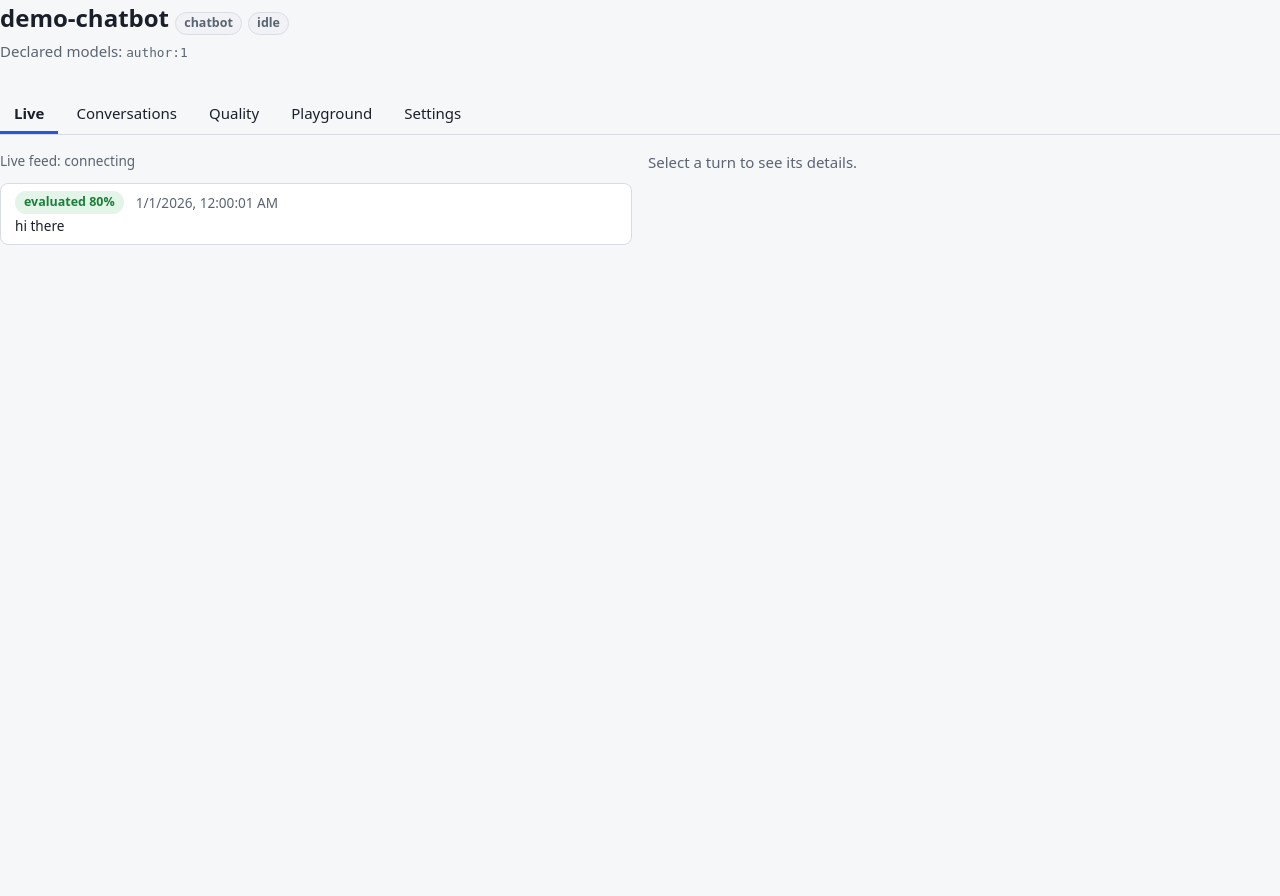
Test: settings tab › shows the hand-off agents picker once "Router" is selected, even before saving
Click the tab "Settings": (433,114) [390,94,475,134]
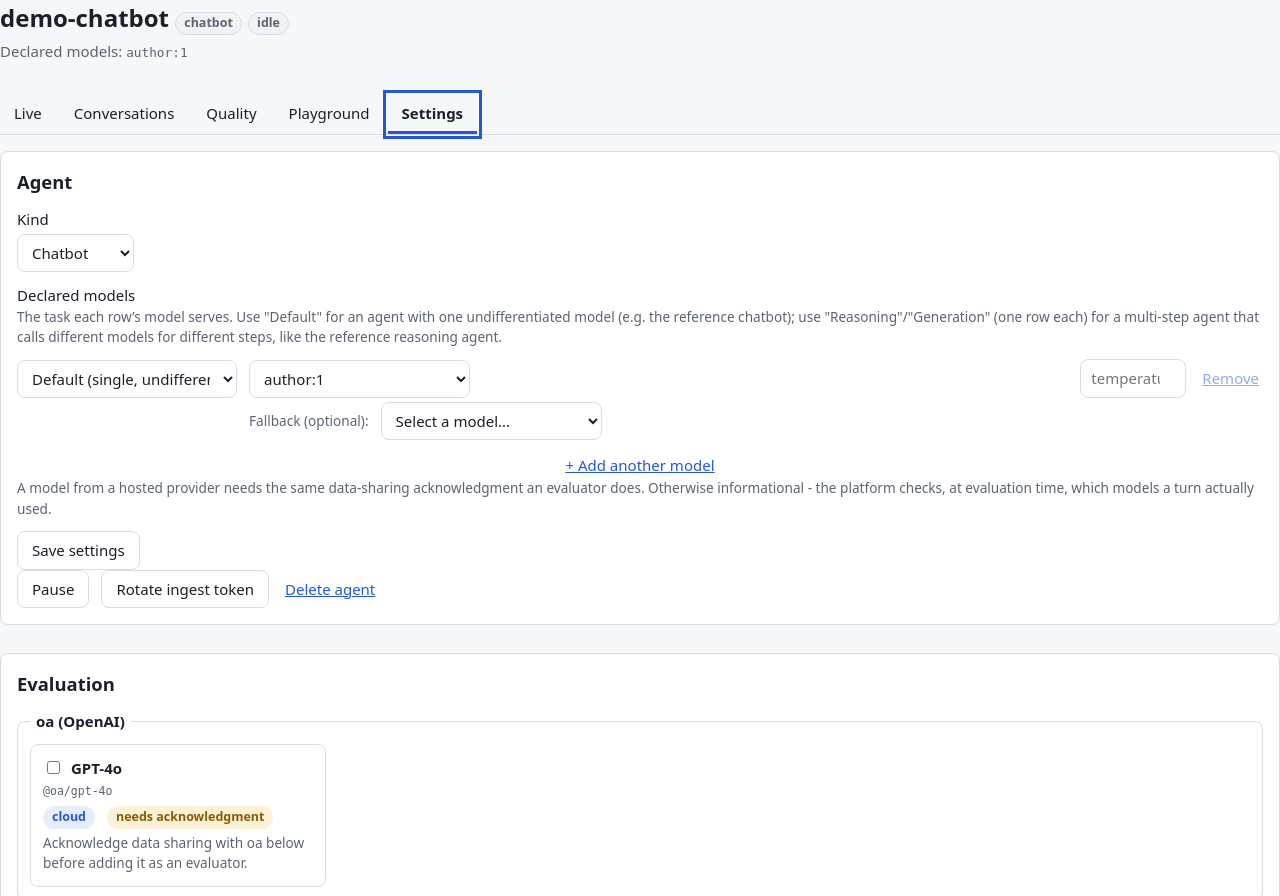
Expected: the element "Hand-off agents" is not shown
Select "Router" in the dropdown labelled "Kind": (76,253) [17,234,134,272]
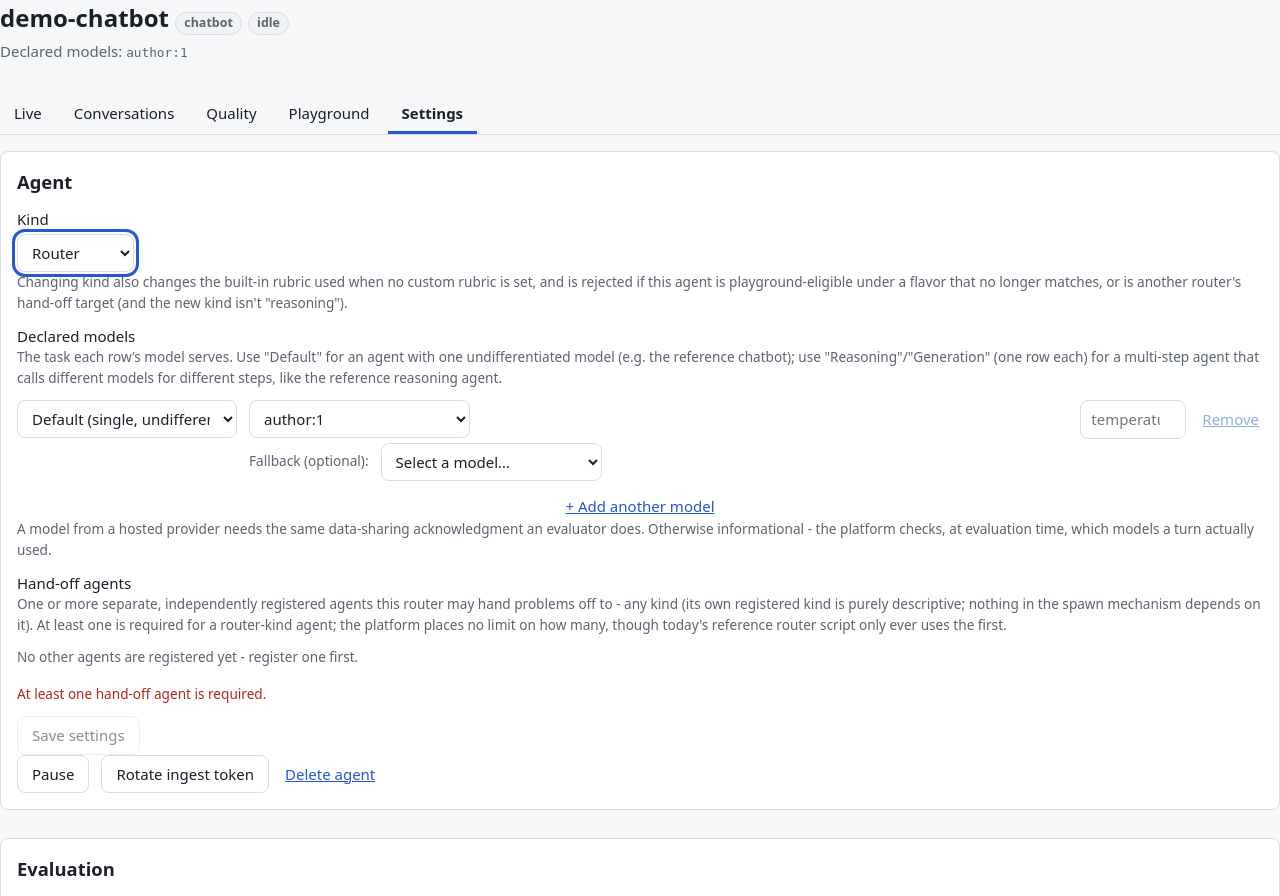
Result: the element named "Hand-off agents" is shown at [17,647,358,666]
